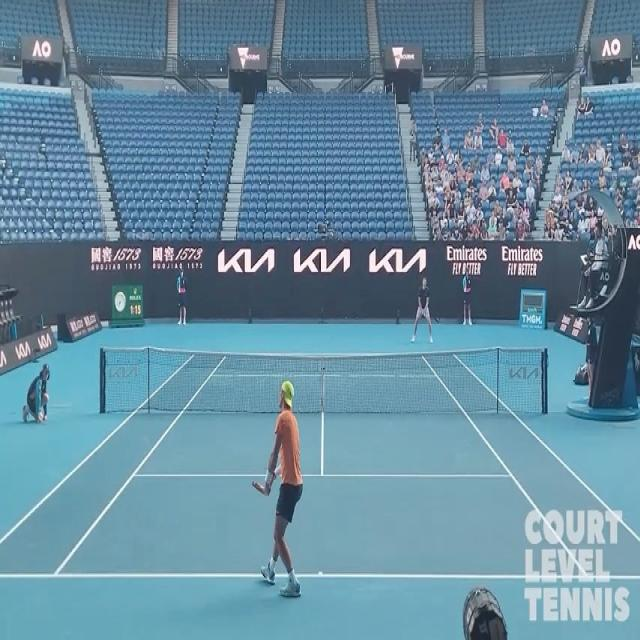serve_ready: (252, 378, 303, 601)
